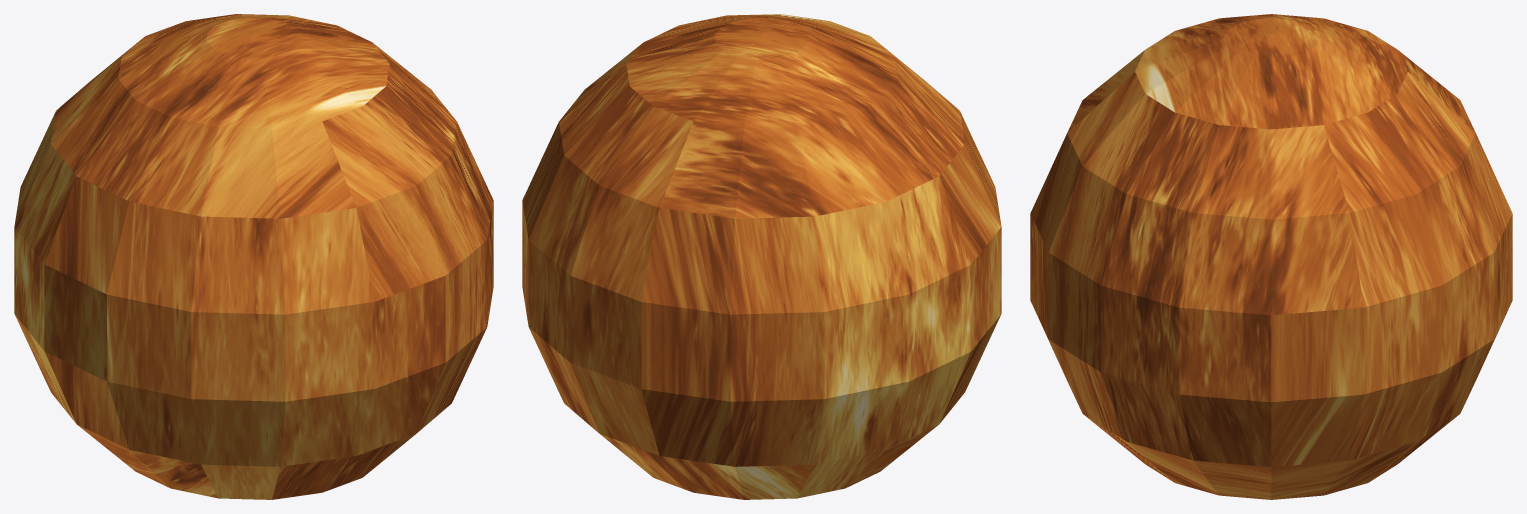
Rendered from Venus.glb.
3 views of the same model, side by side, from view 1: azimuth 30°, elevation 25°; view 2: azimuth 150°, elevation 25°; view 3: azimuth 270°, elevation 25° (orthographic).
Parts seen in each view (by area): view 1: Sphere; view 2: Sphere; view 3: Sphere.
Part boxes in pixels (x1,y1,x2,y2): Sphere: [14, 14, 493, 499]; Sphere: [522, 14, 1001, 499]; Sphere: [1030, 14, 1512, 499].
Bounding box in the file's own units: 1.96 × 2 × 1.96.
Materials: 1 (1 with a texture image).
